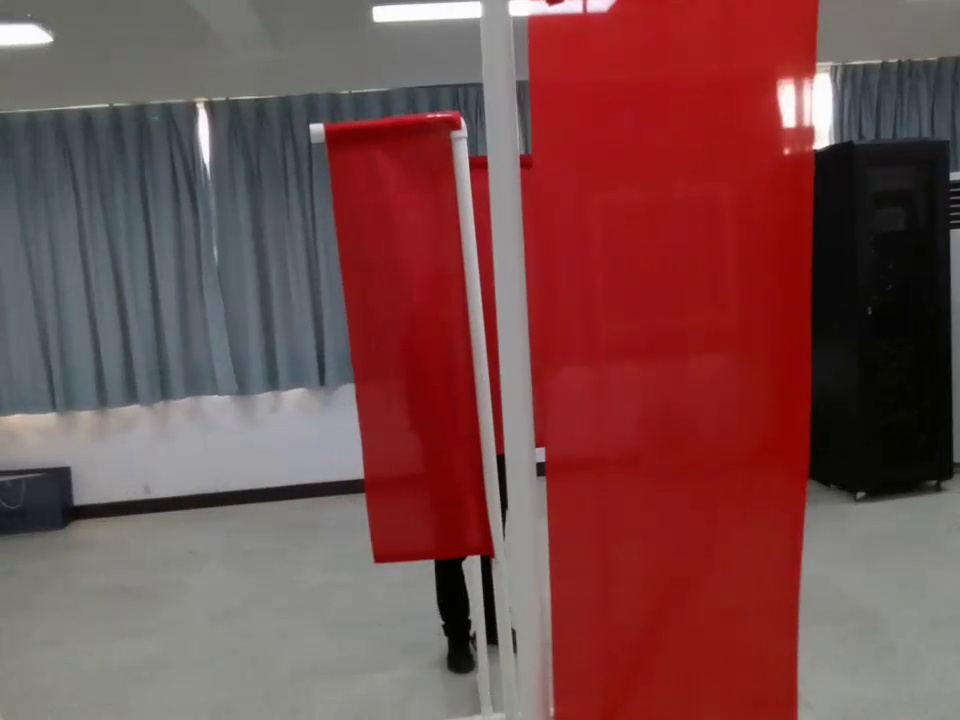qi: (476, 3, 822, 720), (300, 111, 484, 572)
